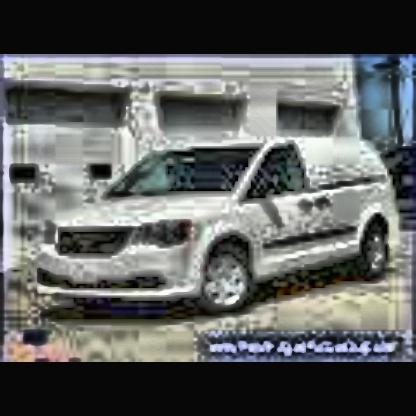Ram C-V Cargo Van Minivan 2012: (39, 137, 406, 317)
